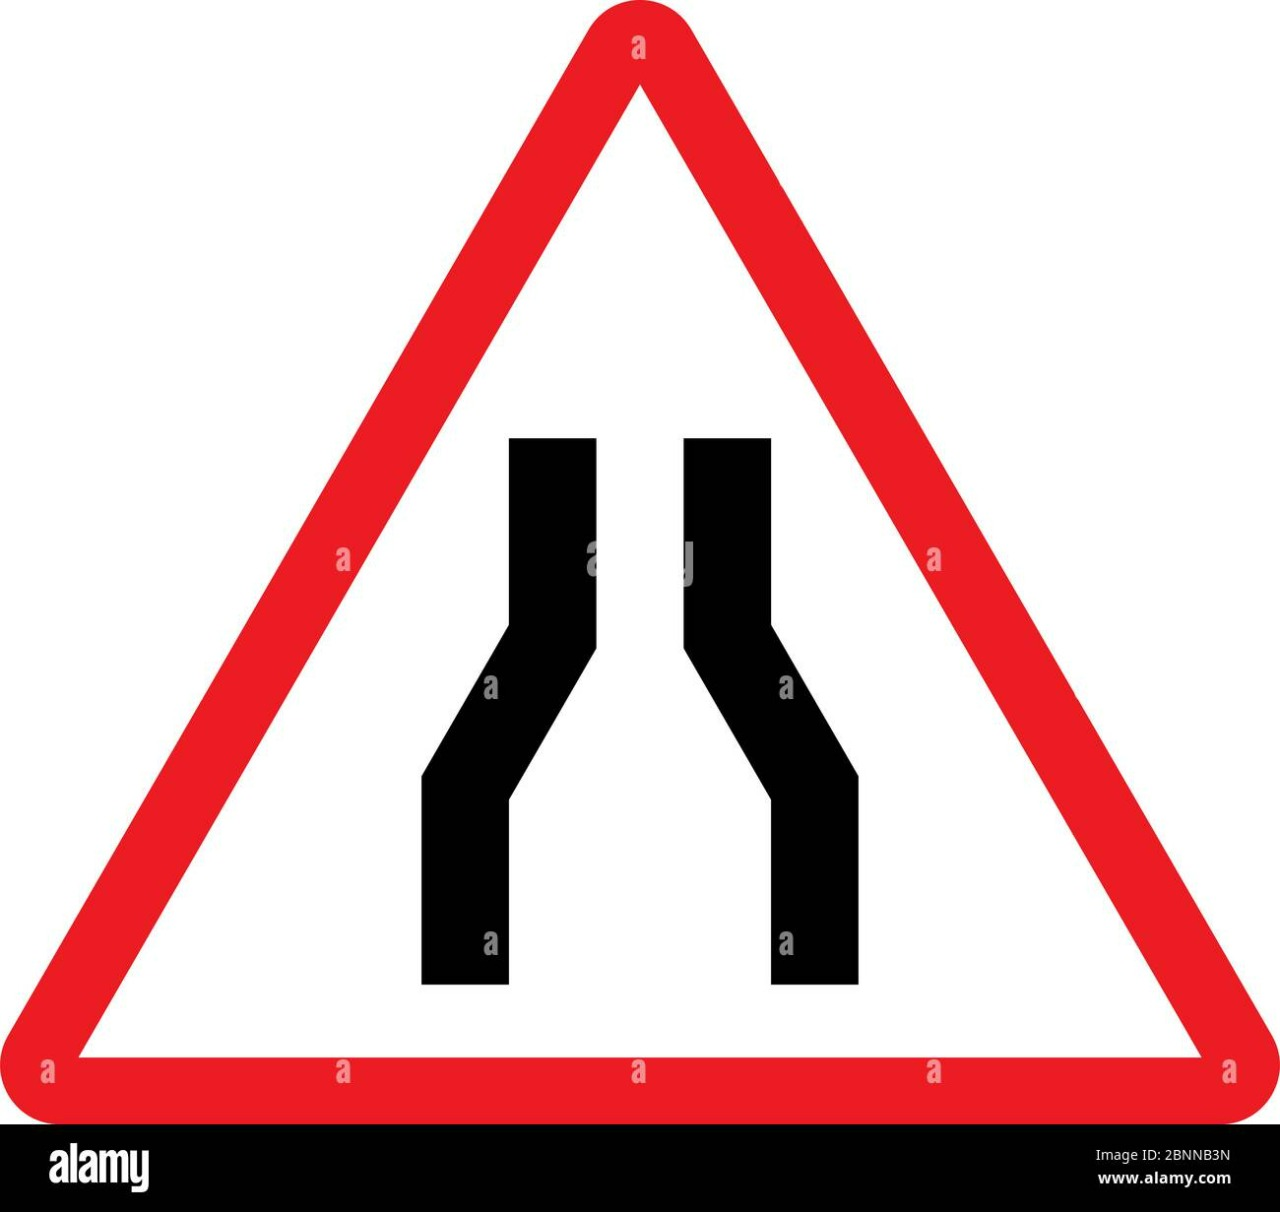narrow-road: (407, 401, 873, 1019)
